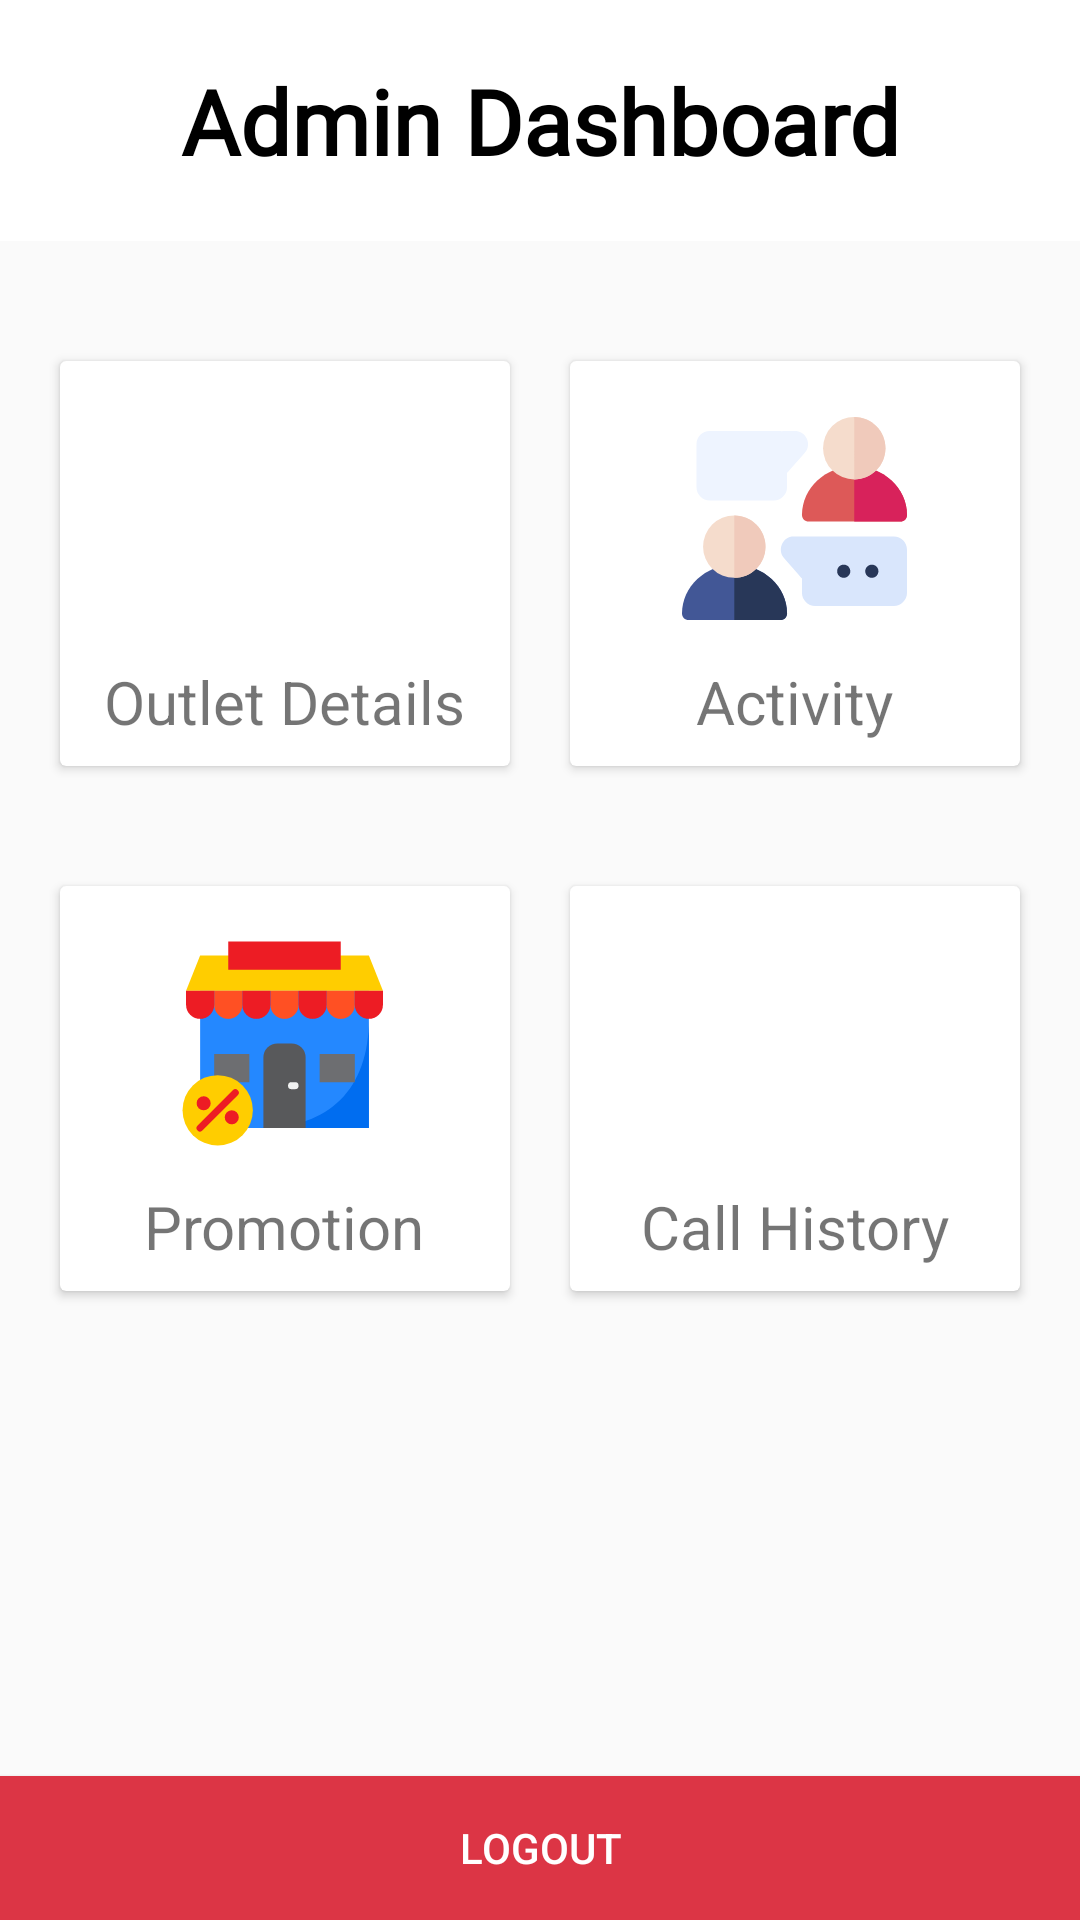

Named icons in this screenshot (1080w x 1920h) and their bounding boxes, (x1, y1, x2, y2):
speak: (682, 417, 907, 620)
